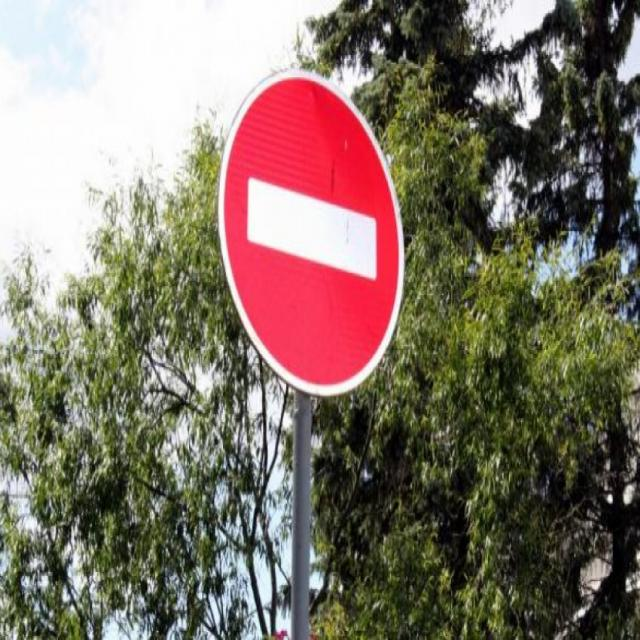no entry: (215, 67, 408, 401)
